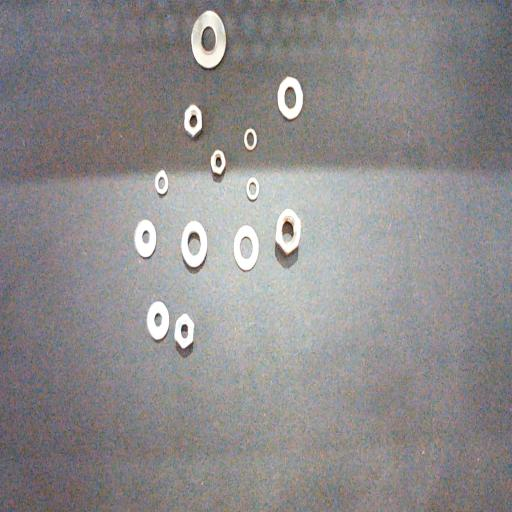nut: (275, 208, 301, 258), (174, 314, 195, 352), (184, 104, 202, 139), (210, 149, 226, 176)
washer: (190, 10, 227, 69), (181, 220, 207, 268), (277, 76, 303, 120), (234, 225, 258, 271), (146, 300, 170, 342), (135, 219, 156, 258), (154, 170, 168, 196), (244, 128, 257, 151), (246, 177, 259, 200)
